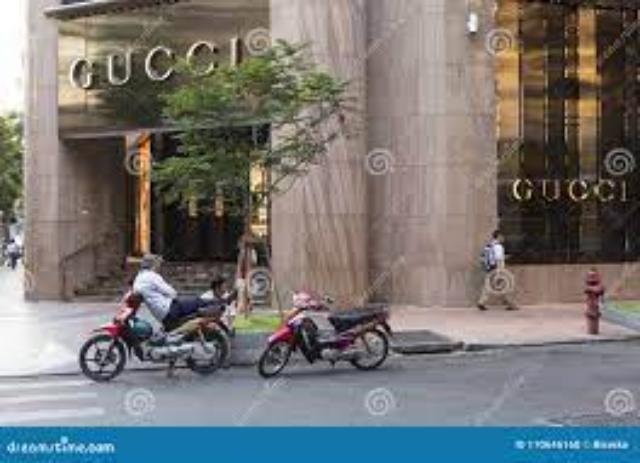Gucci: (59, 33, 250, 89), (510, 170, 632, 210)
